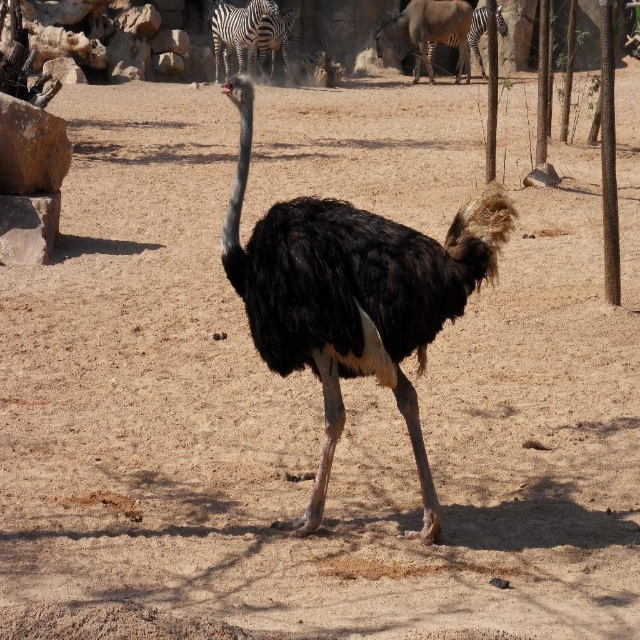Ostrich: (220, 71, 520, 546)
